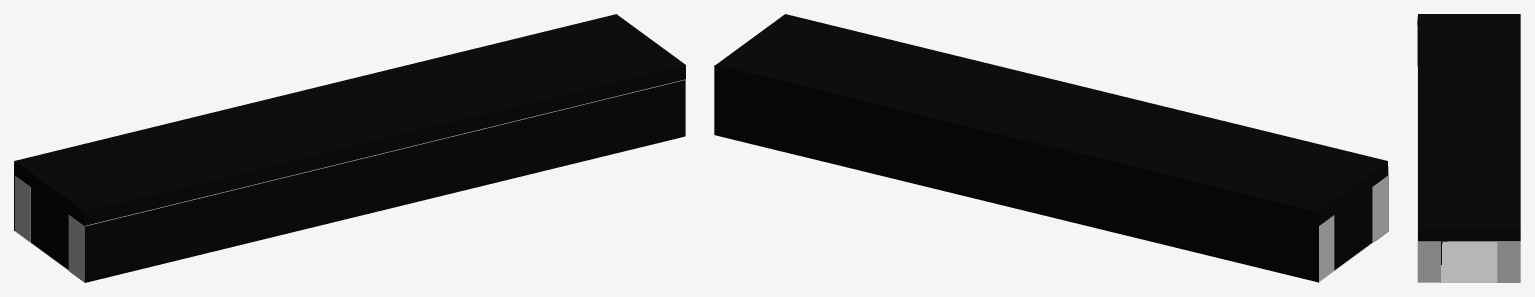
The model's file is asdasblend.fbx.
3 views of the same model, side by side, from view 1: azimuth 30°, elevation 25°; view 2: azimuth 150°, elevation 25°; view 3: azimuth 270°, elevation 25° (orthographic). The views are drawn at different scales.
Parts seen in each view (by area): view 1: Cube.013, Cube.010, Cube.006; view 2: Cube.013, Plane.010, Plane.006, Plane.009, Plane.008, Plane.007, Cube.010, Cube.006; view 3: Cube.013, Plane.001, Cube.012, Cube, Plane.002.
Boxes of the visible parts, x1,y1,x2,y2 form: Cube.013: (15,14,685,282); Cube.010: (68,197,200,281); Cube.006: (15,176,30,242); Cube.013: (716,14,1388,282); Plane.010: (1117,163,1318,282); Plane.006: (714,65,815,159); Plane.009: (1016,139,1117,233); Plane.008: (916,114,1016,208); Plane.007: (815,89,915,183); Cube.010: (1372,176,1388,242); Cube.006: (1319,215,1334,281); Cube.013: (1417,14,1520,241); Plane.001: (1439,246,1497,282); Cube.012: (1417,220,1440,282); Cube: (1497,241,1520,282); Plane.002: (1442,241,1497,246).
Bounding box in the file's own units: 3123 × 351 × 629.
